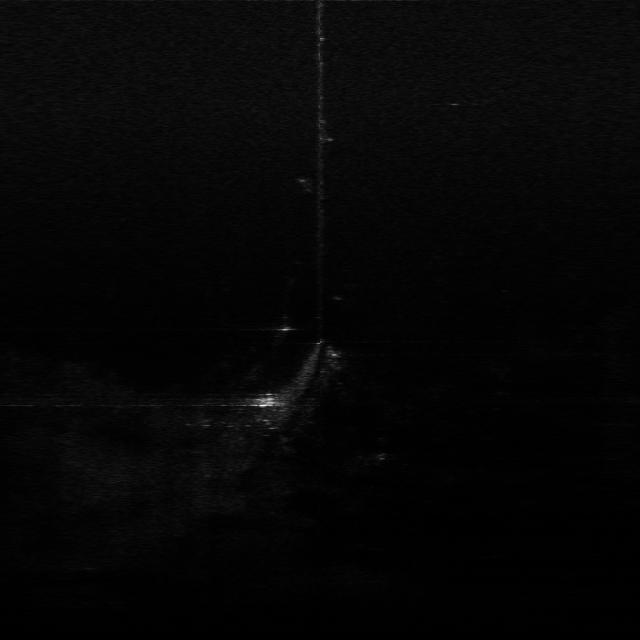rov: (249, 390, 283, 410)
